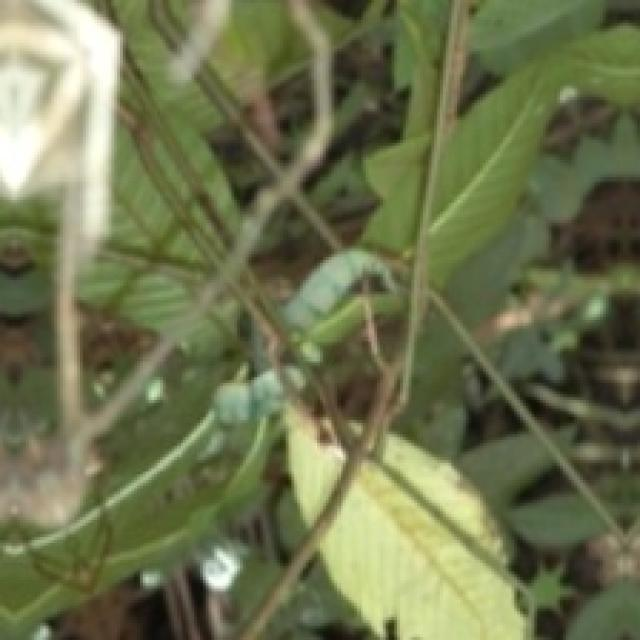north ph temple pitviper: (205, 255, 404, 459)
